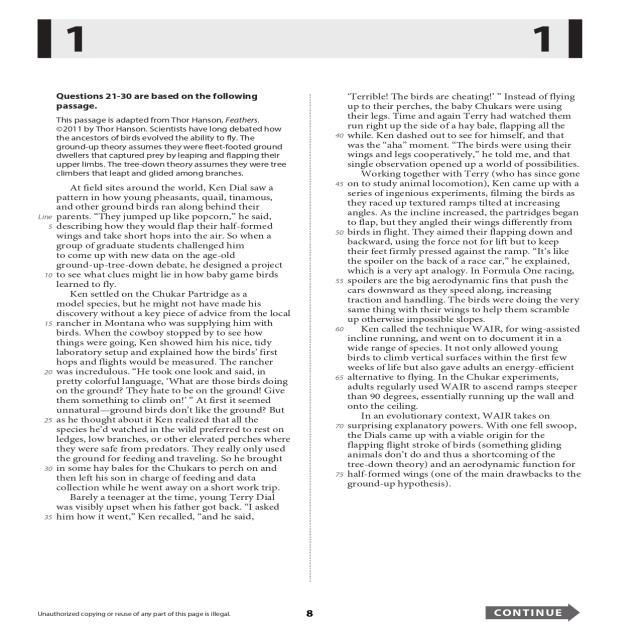Instruction: (317, 87, 594, 582), (48, 89, 304, 582)
Question_Paper_Area: (317, 87, 594, 582), (48, 89, 304, 582)
